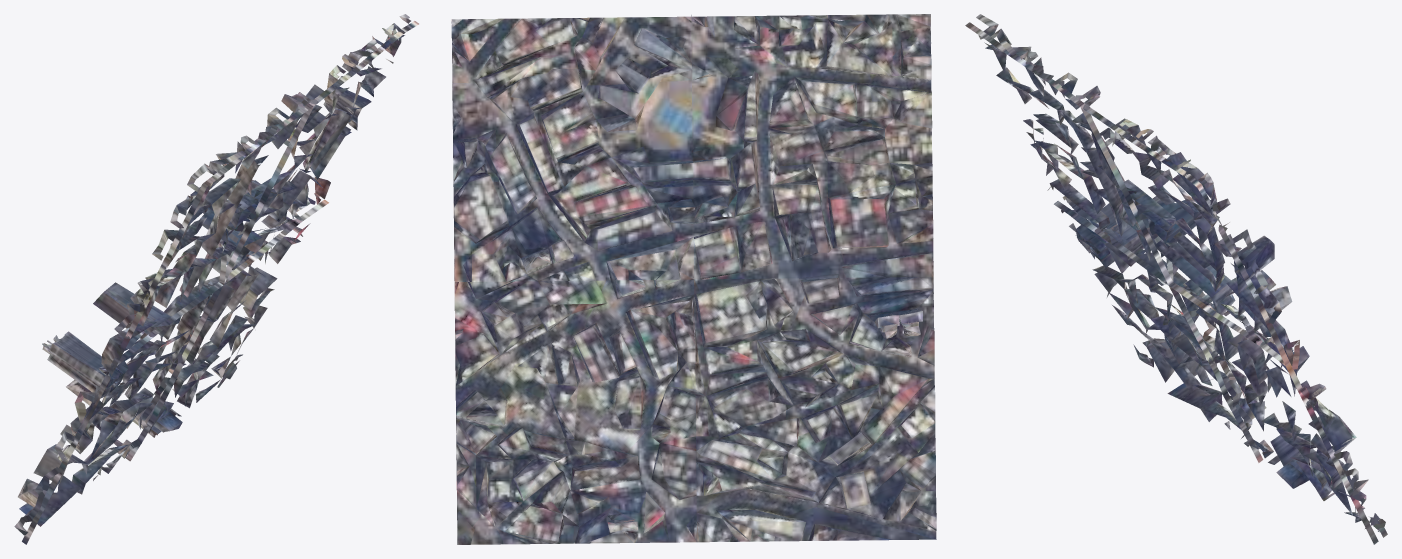
3 renders of one model, left to right at view 1: azimuth 30°, elevation 25°; view 2: azimuth 150°, elevation 25°; view 3: azimuth 270°, elevation 25°, orthographic. The views are drawn at different scales.
Size of the model in its own units: 618 by 567 by 525.
Materials: 1 (1 with a texture image).
